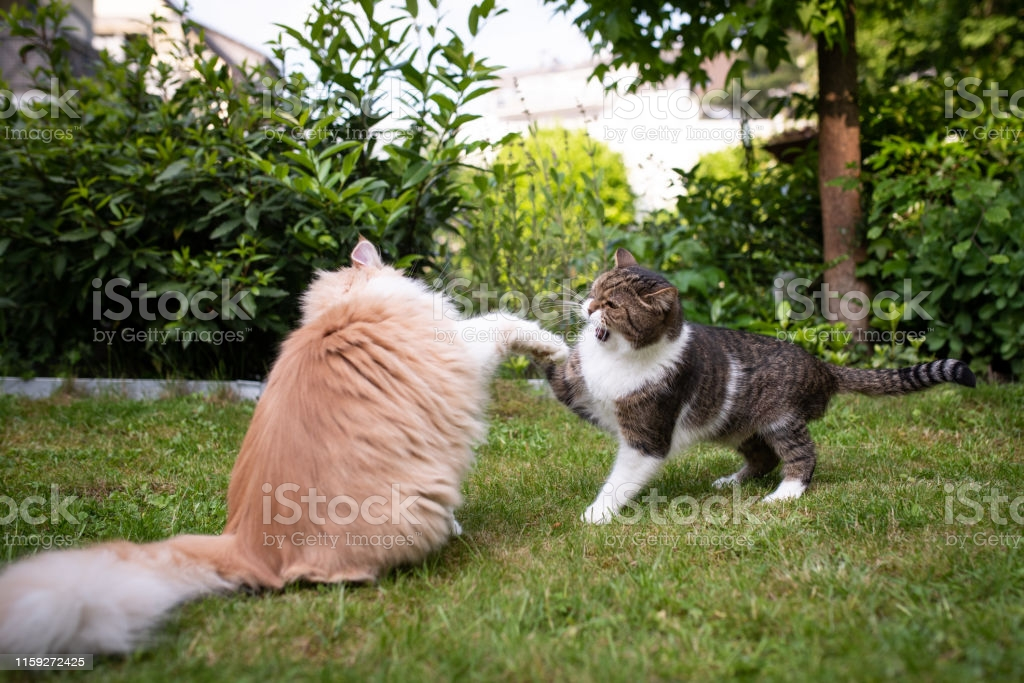cat: (1, 246, 532, 656), (542, 246, 971, 522)
